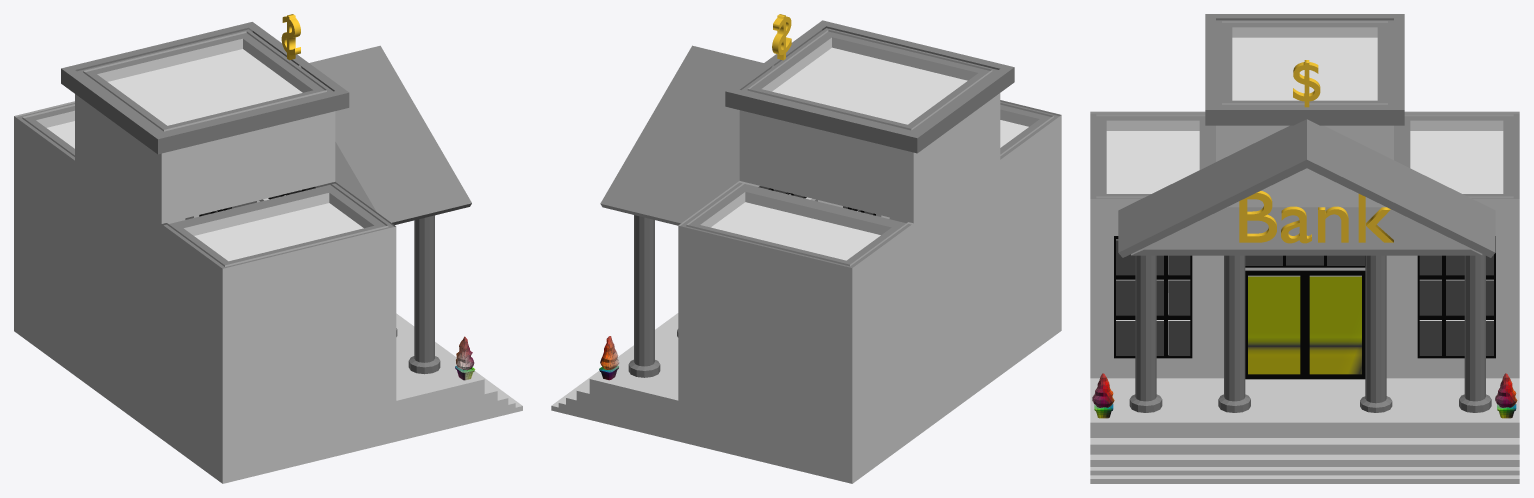
The model's file is Banco.fbx.
3 views of the same model, side by side, from view 1: azimuth 30°, elevation 25°; view 2: azimuth 150°, elevation 25°; view 3: azimuth 270°, elevation 25° (orthographic). The views are drawn at different scales.
Visible parts, largest first — view 1: struttura, TETTU, TETTOIA, GRADINI, colonna_002, Cube, Text_001; view 2: struttura, TETTU, TETTOIA, GRADINI, colonna_003, Cube, Text_001; view 3: GRADINI, struttura, TETTU, TETTOIA, VETRI_FINESTRE, VETRI_PORTA, Cube, SERRAMENTI, colonna_002, colonna_003, colonna, colonna_001 (+4 smaller).
Part boxes in pixels (x1,y1,x2,y2): struttura: (14, 22, 396, 483); TETTU: (16, 29, 394, 268); TETTOIA: (299, 45, 471, 224); GRADINI: (396, 313, 522, 441); colonna_002: (408, 215, 440, 374); Cube: (335, 142, 376, 211); Text_001: (281, 14, 300, 60); struttura: (678, 20, 1061, 483); TETTU: (680, 28, 1059, 267); TETTOIA: (600, 45, 774, 225); GRADINI: (551, 313, 678, 441); colonna_003: (628, 215, 660, 377); Cube: (696, 138, 739, 212); Text_001: (772, 14, 791, 60); GRADINI: (1090, 378, 1519, 483); struttura: (1090, 14, 1519, 378); TETTU: (1090, 20, 1519, 198); TETTOIA: (1118, 119, 1495, 257); VETRI_FINESTRE: (1116, 240, 1493, 355); VETRI_PORTA: (1248, 276, 1361, 374); Cube: (1131, 207, 1482, 255); SERRAMENTI: (1114, 236, 1495, 379); colonna_002: (1129, 255, 1162, 412); colonna_003: (1459, 254, 1491, 412); colonna: (1218, 255, 1250, 412); colonna_001: (1360, 255, 1392, 412).
Bounding box in the file's own units: 1072 × 1155 × 1253.
1 material, 1 textured.
